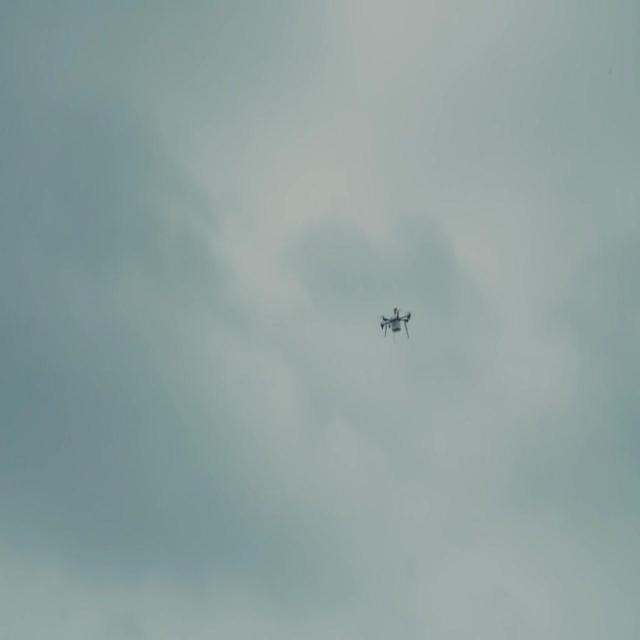drone: (380, 304, 412, 342)
